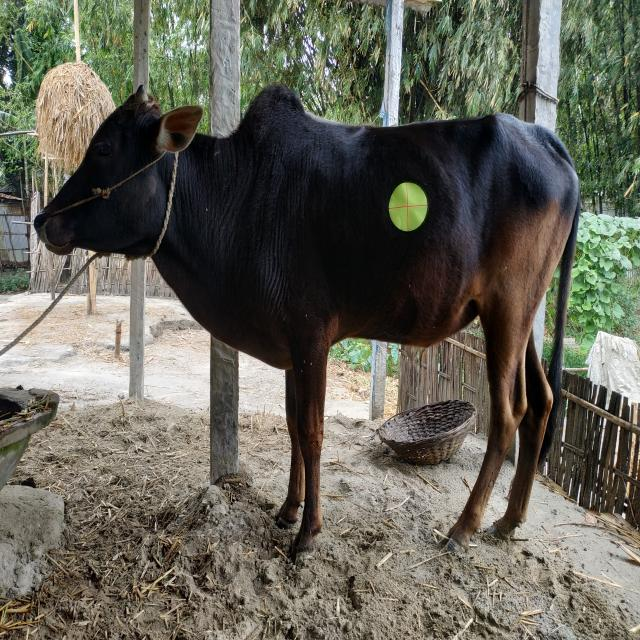badan_sapi: (249, 120, 576, 344)
sapi: (33, 74, 580, 564)
